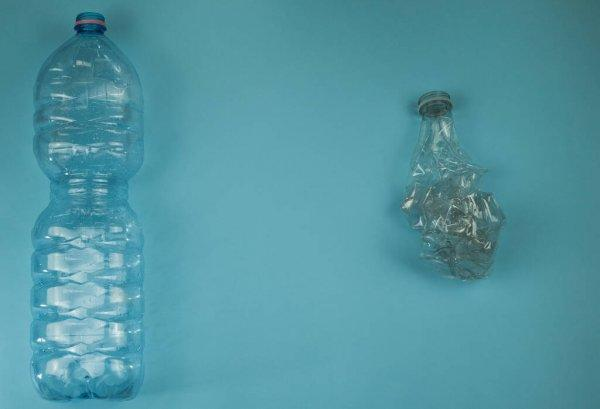bottle: (27, 9, 164, 402), (393, 66, 512, 292)
